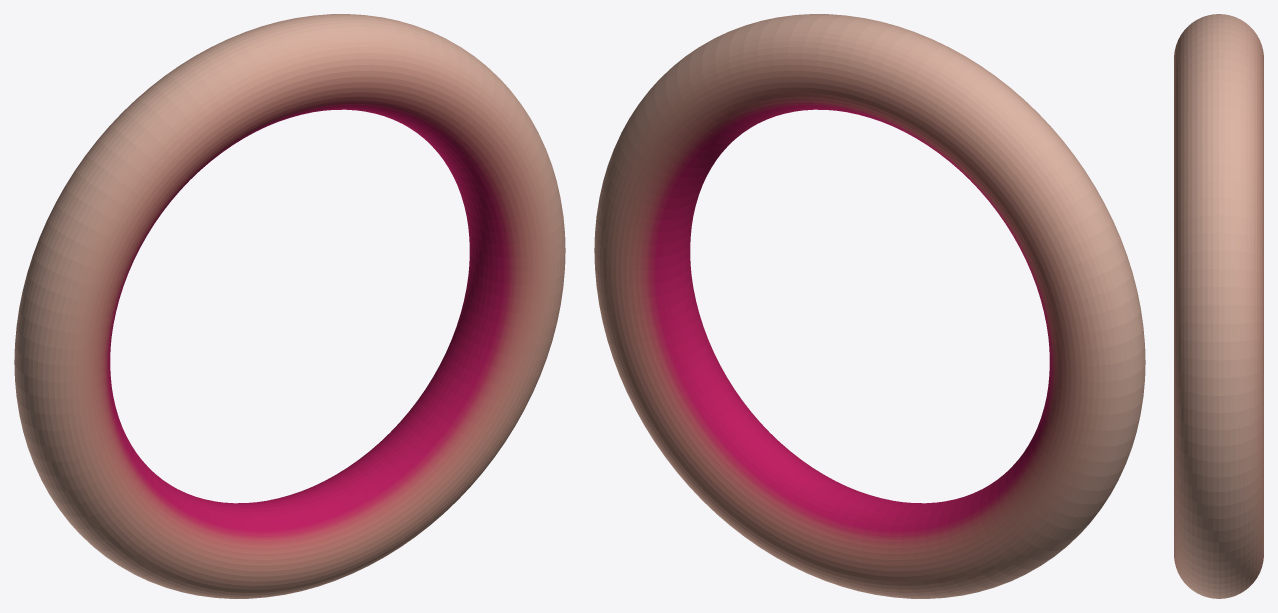
3 views of the same model, side by side, from view 1: azimuth 30°, elevation 25°; view 2: azimuth 150°, elevation 25°; view 3: azimuth 270°, elevation 25° (orthographic). The views are drawn at different scales.
Visible parts, largest first — view 1: world; view 2: world; view 3: world.
Part boxes in pixels (x1,y1,x2,y2): world: (14, 14, 565, 598); world: (594, 14, 1145, 598); world: (1174, 14, 1263, 598).
Bounding box in the file's own units: 35.47 × 35.47 × 5.46.
